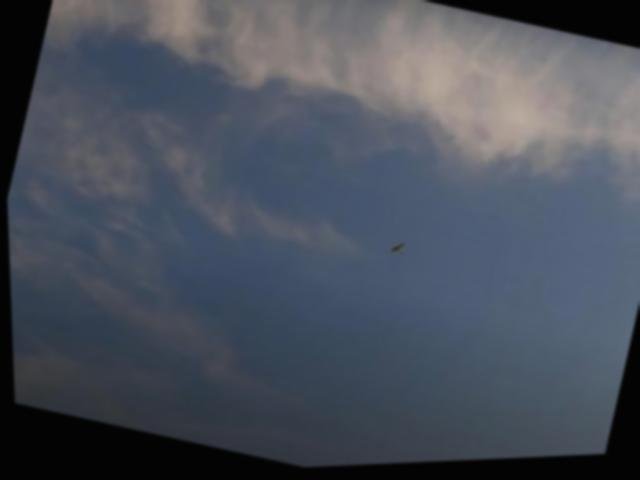iha: (388, 244, 404, 259)
